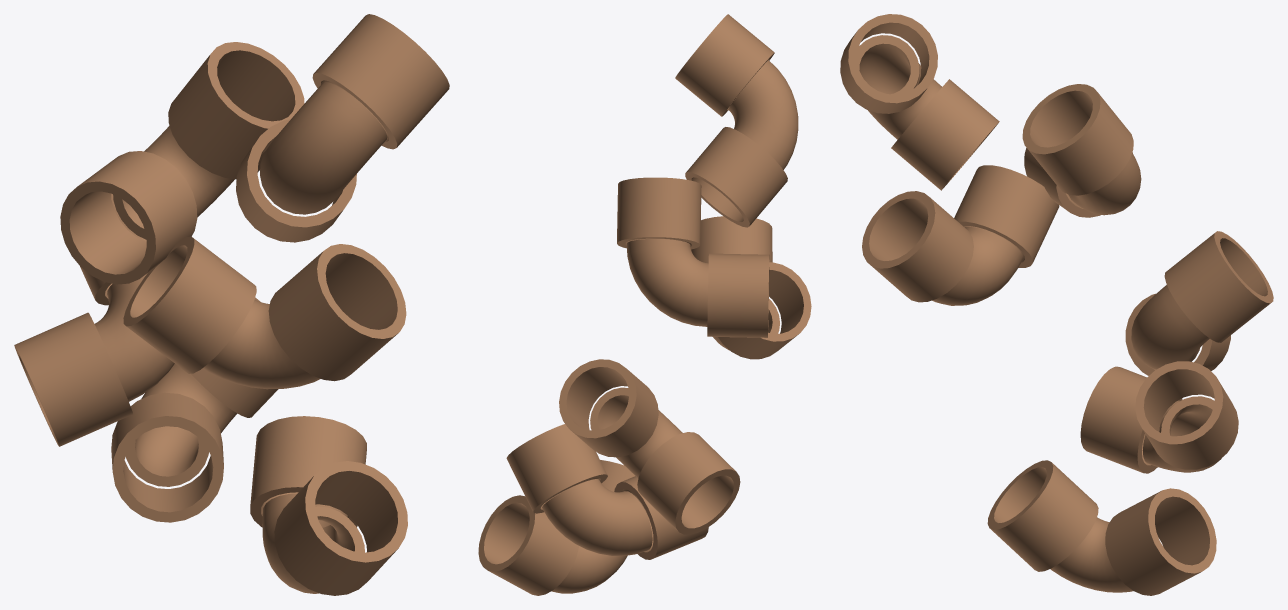
File: HID-CNX-001_anim.glb
The picture shows the model from 3 angles, left to right: view 1: azimuth 30°, elevation 25°; view 2: azimuth 150°, elevation 25°; view 3: azimuth 270°, elevation 25°; orthographic projection. The views are drawn at different scales.
Parts seen in each view (by area): view 1: HID-CNX-001_anim3, HID-CNX-001_anim4, HID-CNX-001_anim5, HID-CNX-001_anim0, HID-CNX-001_anim1, HID-CNX-001_anim2; view 2: HID-CNX-001_anim5, HID-CNX-001_anim4, HID-CNX-001_anim2, HID-CNX-001_anim1, HID-CNX-001_anim0, HID-CNX-001_anim3; view 3: HID-CNX-001_anim0, HID-CNX-001_anim3, HID-CNX-001_anim5, HID-CNX-001_anim1, HID-CNX-001_anim2, HID-CNX-001_anim4.
Boxes of the visible parts, x1,y1,x2,y2 form: HID-CNX-001_anim3: (123,236,406,389); HID-CNX-001_anim4: (60,42,304,284); HID-CNX-001_anim5: (236,14,449,242); HID-CNX-001_anim0: (250,416,407,595); HID-CNX-001_anim1: (111,297,278,522); HID-CNX-001_anim2: (14,193,174,446); HID-CNX-001_anim5: (675,14,798,227); HID-CNX-001_anim4: (617,177,769,337); HID-CNX-001_anim2: (559,359,740,534); HID-CNX-001_anim1: (506,424,708,559); HID-CNX-001_anim0: (478,460,634,595); HID-CNX-001_anim3: (691,216,811,359); HID-CNX-001_anim0: (987,460,1216,595); HID-CNX-001_anim3: (862,165,1059,305); HID-CNX-001_anim5: (840,14,999,190); HID-CNX-001_anim1: (1080,361,1238,473); HID-CNX-001_anim2: (1125,231,1273,375); HID-CNX-001_anim4: (1022,84,1141,217).
Bounding box in the file's own units: 0.11 × 0.2078 × 0.1481.
